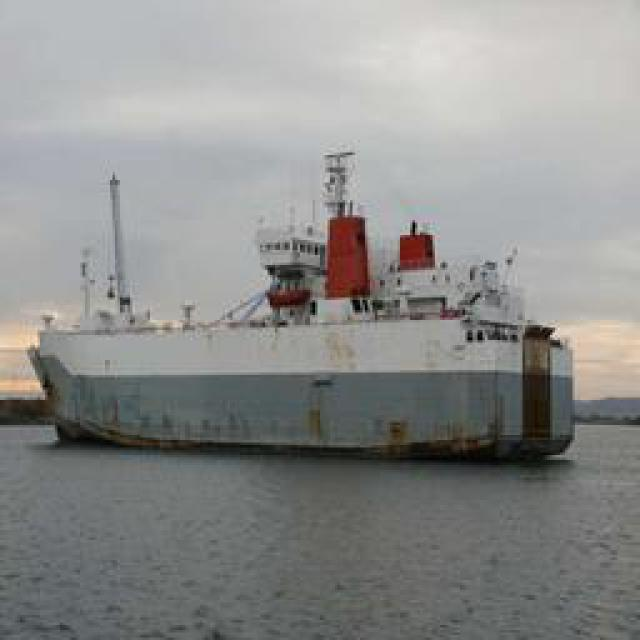Ship: (31, 151, 581, 459)
